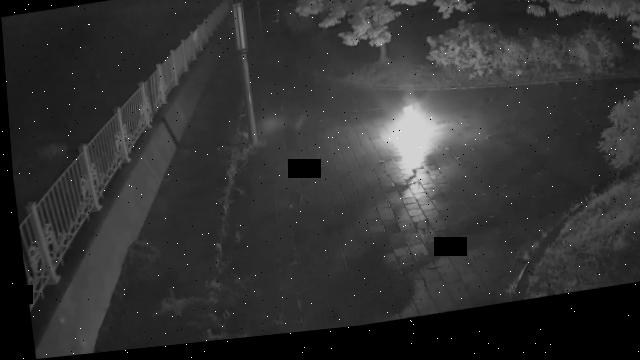fire: (377, 108, 441, 180)
